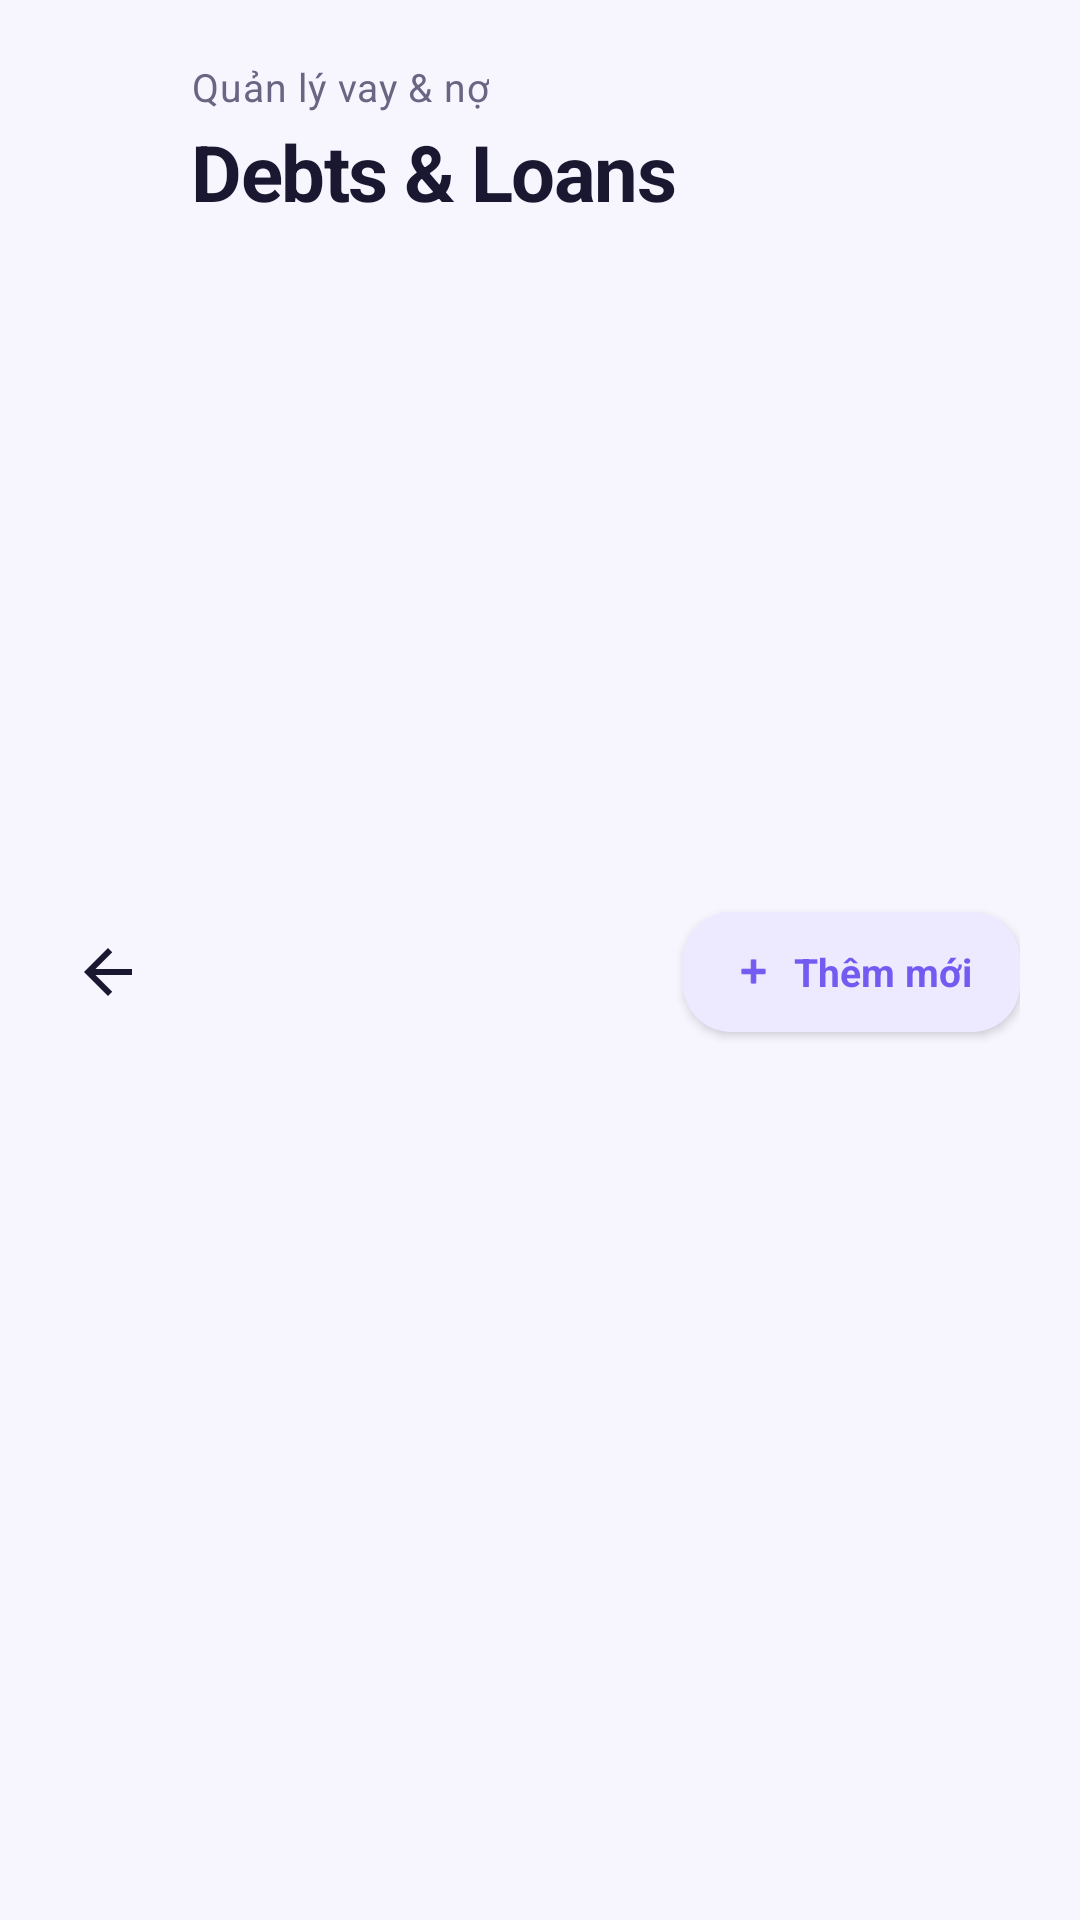

Icons on this 1080w x 1920h Android screen, each with its box as box(x1, y1, x2, y2):
add: box(741, 959, 766, 984)
back: box(84, 948, 132, 996)
